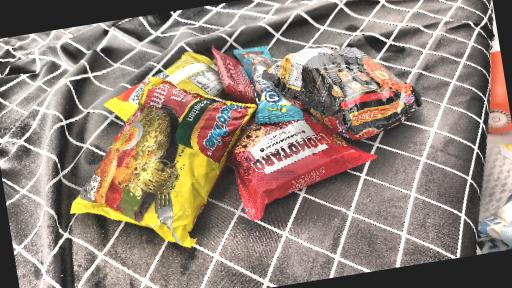indomie: (65, 90, 274, 248)
mie sedap: (266, 1, 454, 148)
